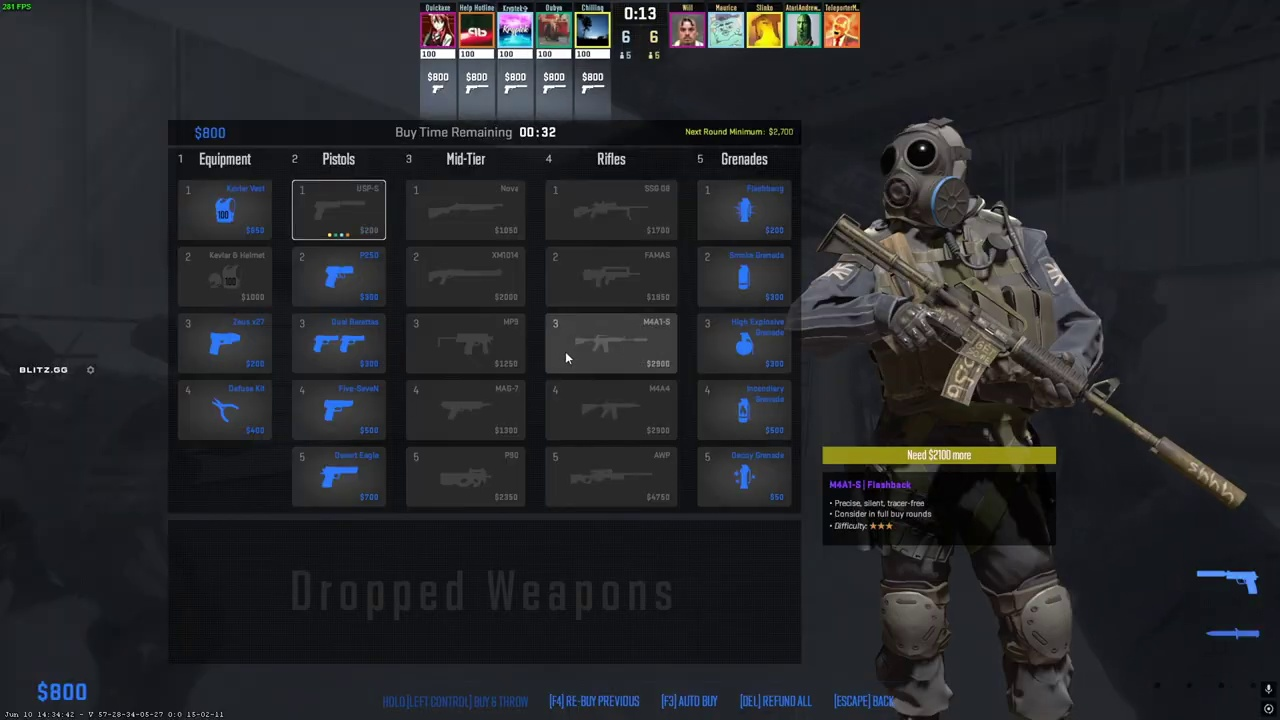CT: (852, 121, 1093, 720)
